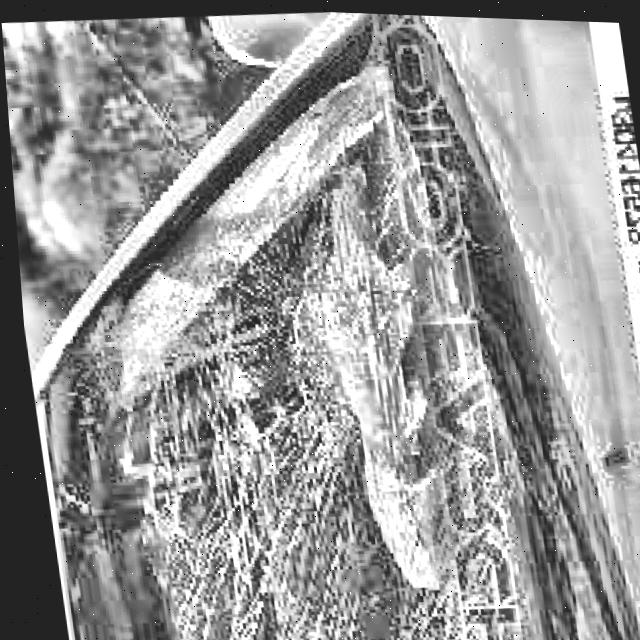glass_shatter: (49, 332, 346, 640), (213, 153, 409, 399)
